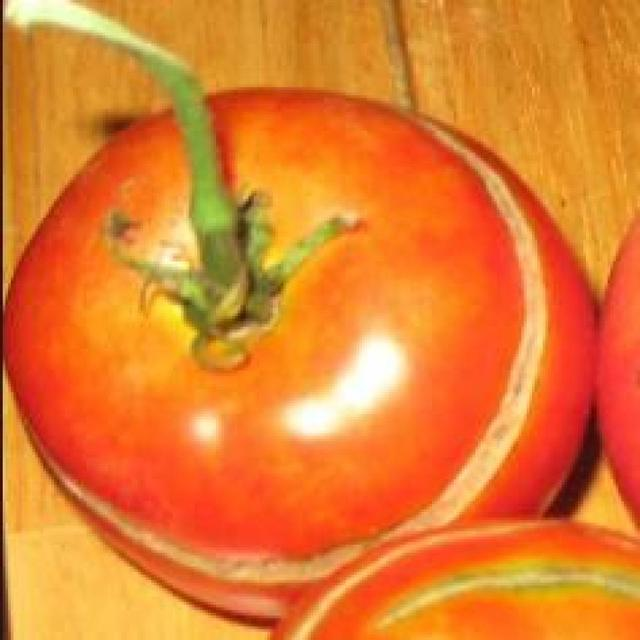Cracking Fruit: (193, 78, 366, 386)
